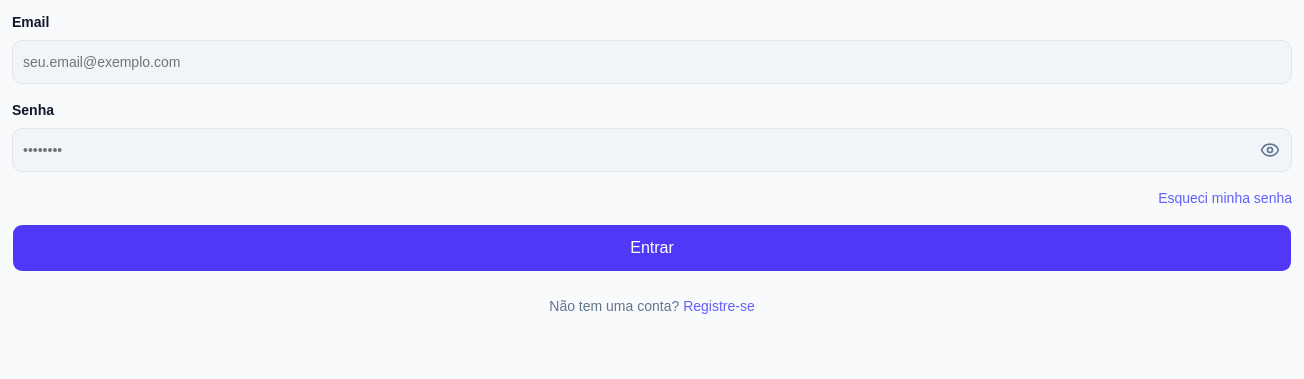
LoginForm Component › deve exibir mensagens de erro do Zod ao enviar formulário vazio
Step 1. Click the button "Entrar" → (652, 248), box [12,224,1292,272]
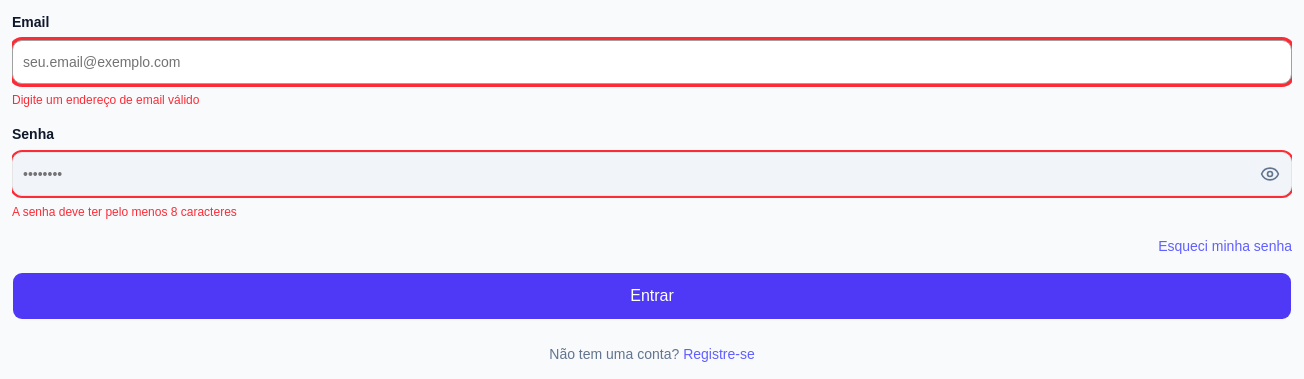
Expected: the text "Digite um endereço de email válido" is shown, [12,93,199,107]
Expected: the text "A senha deve ter pelo menos 8 caracteres" is shown, [12,205,237,219]
